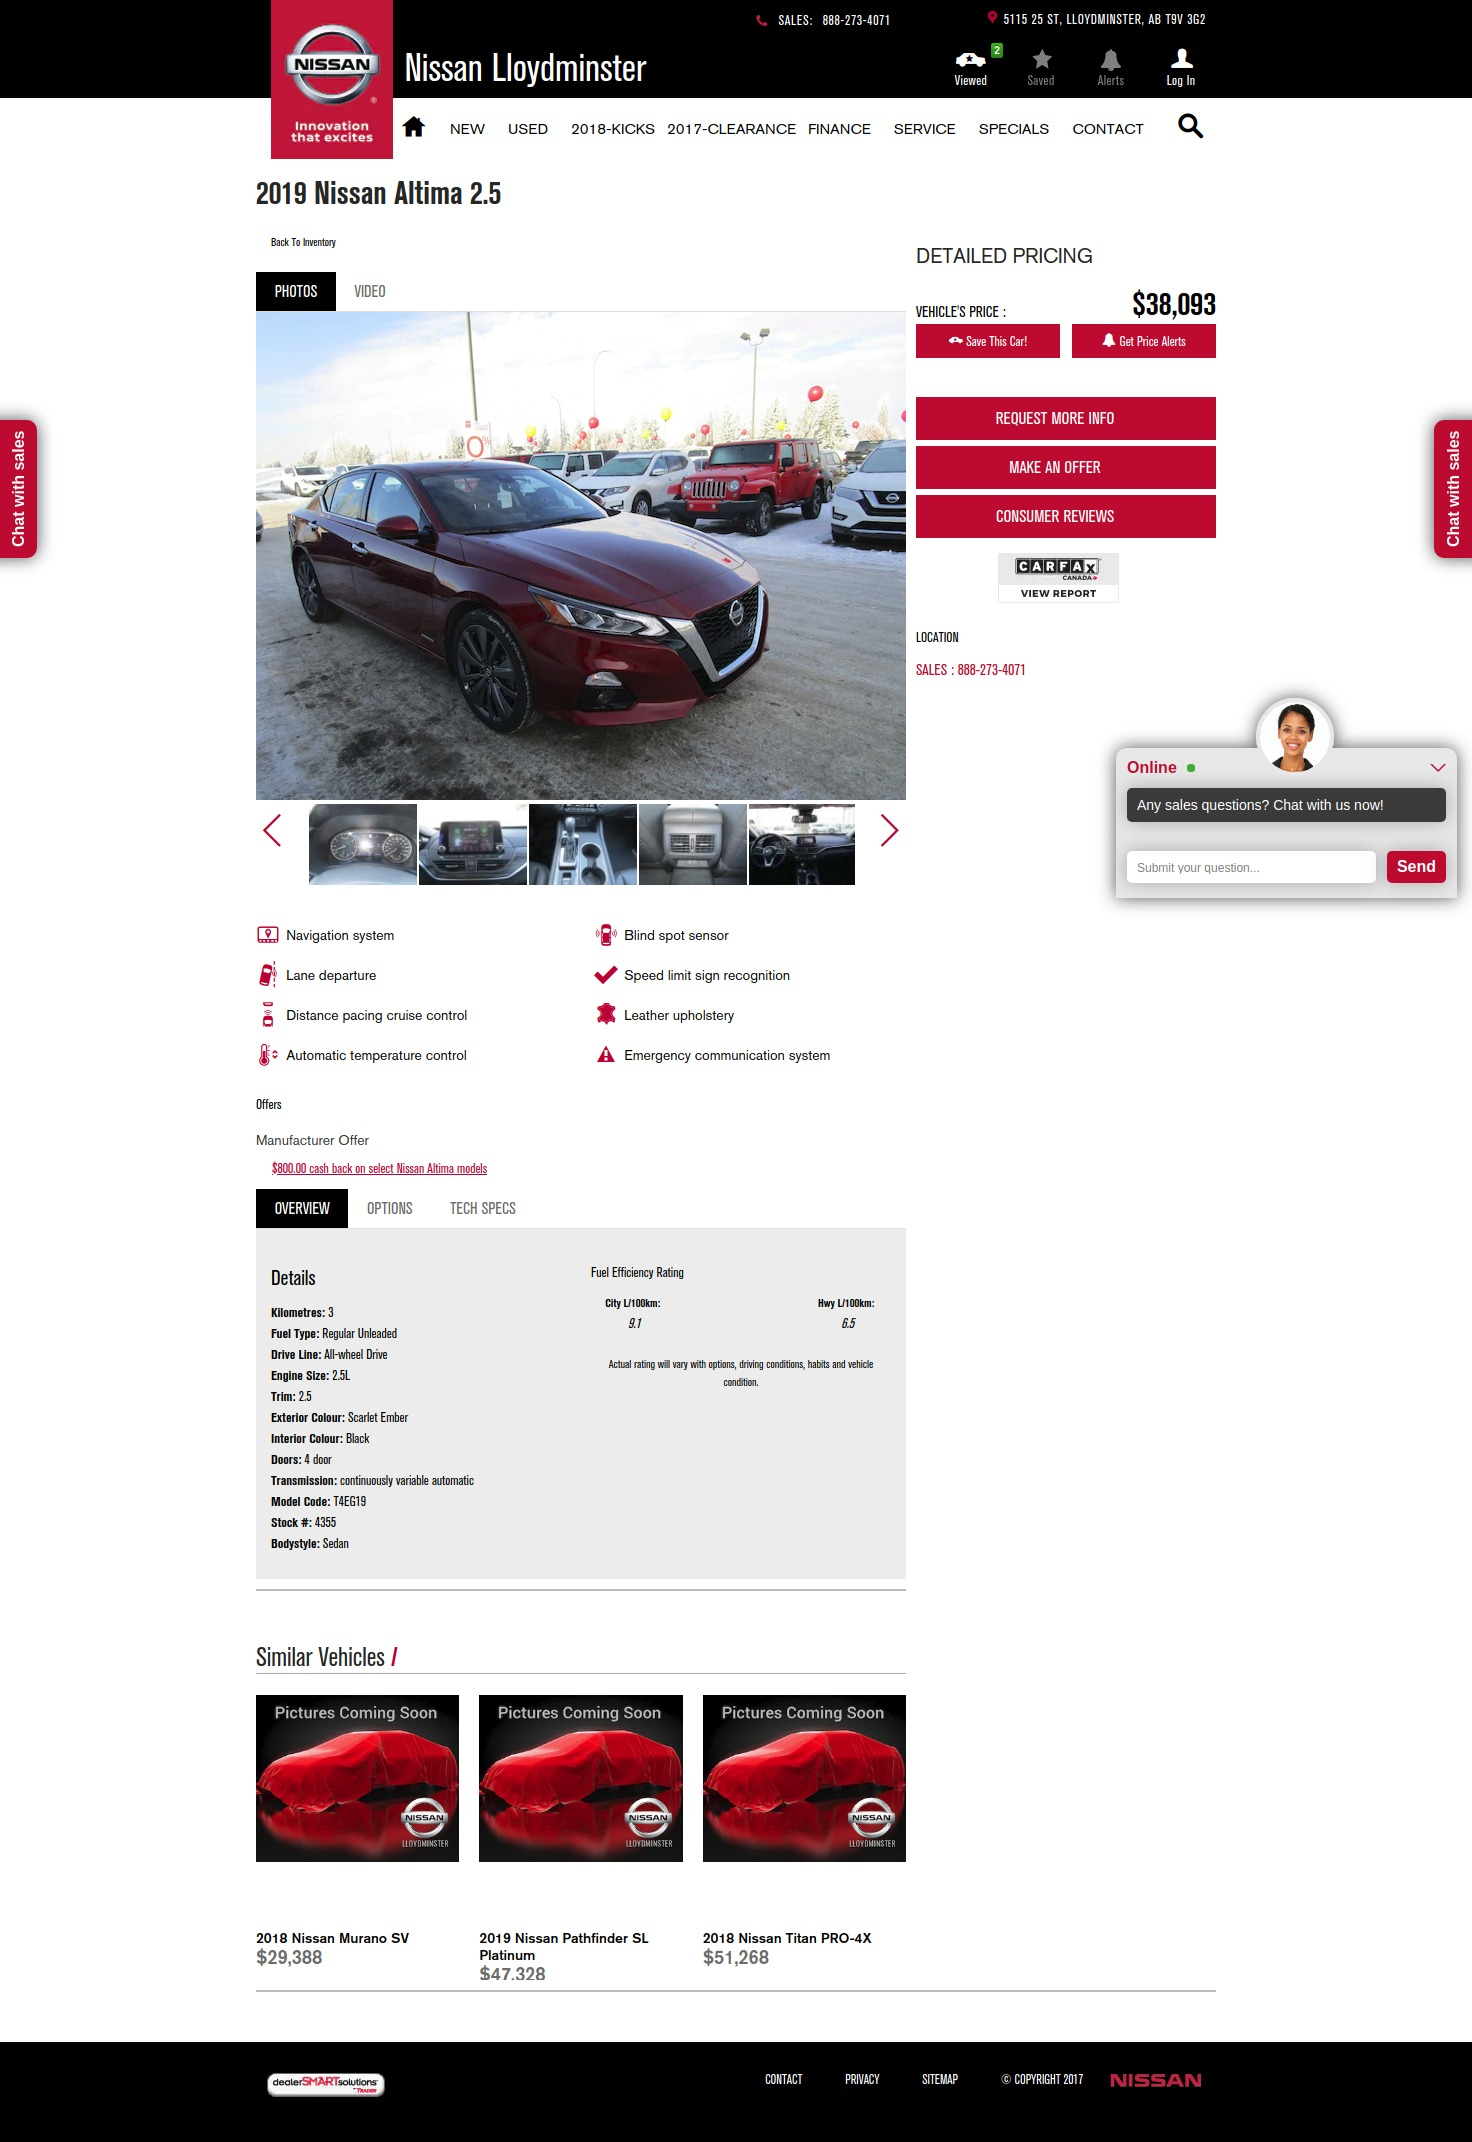car: (878, 812, 902, 850)
